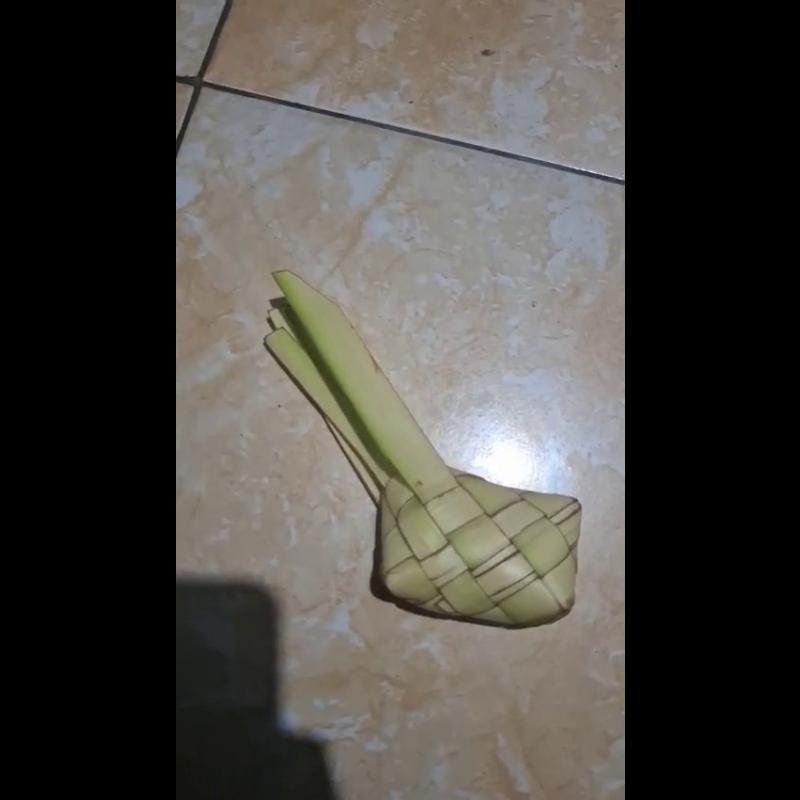Tipat Bantal: (259, 265, 583, 641)
